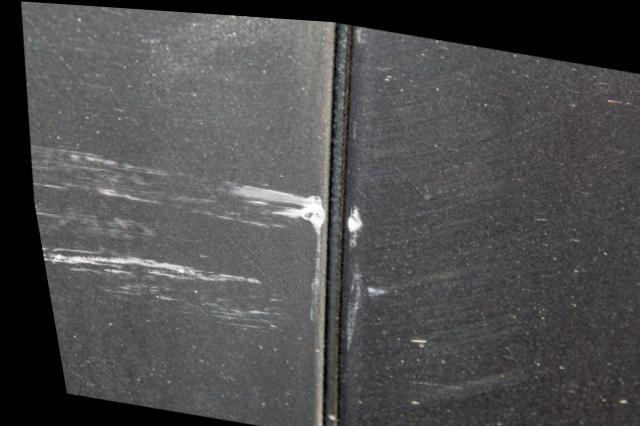scratch: (25, 142, 323, 327), (329, 197, 377, 353)
